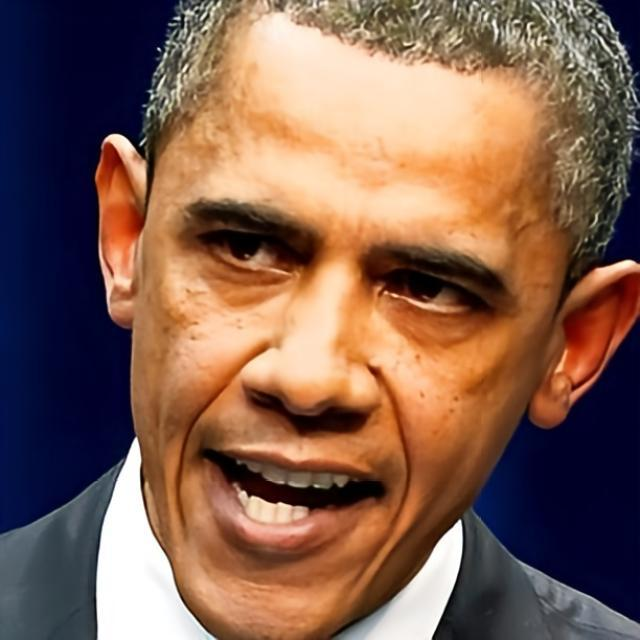anger: (132, 34, 550, 604)
